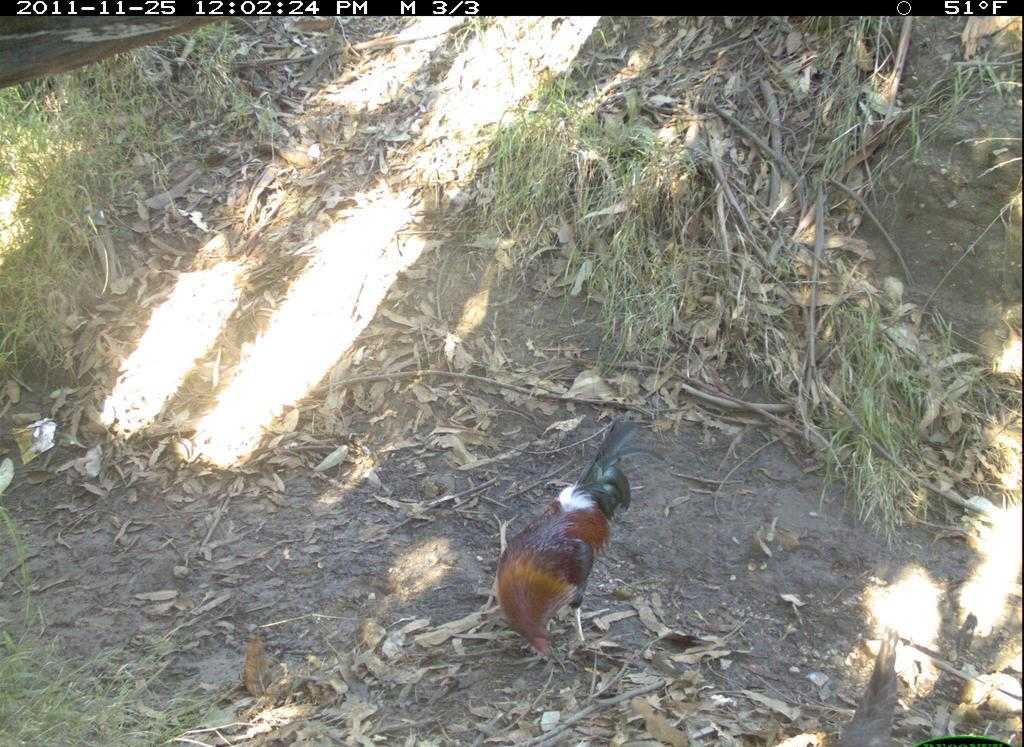bird: (489, 417, 670, 670)
